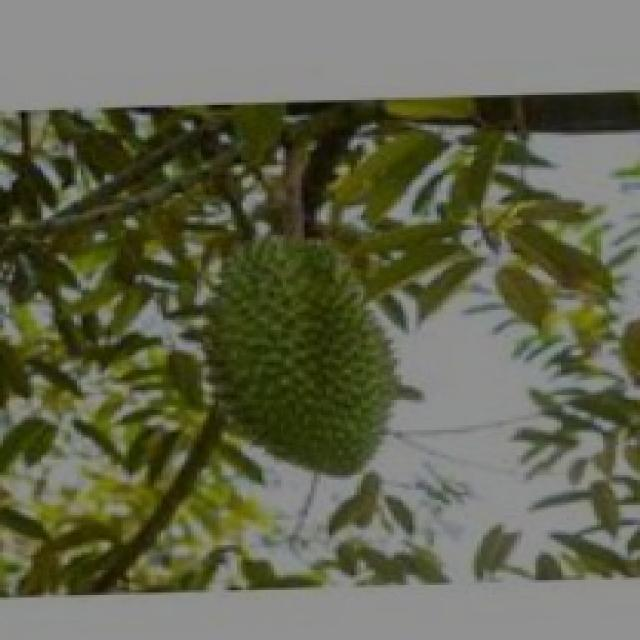fruit: (176, 207, 424, 495)
